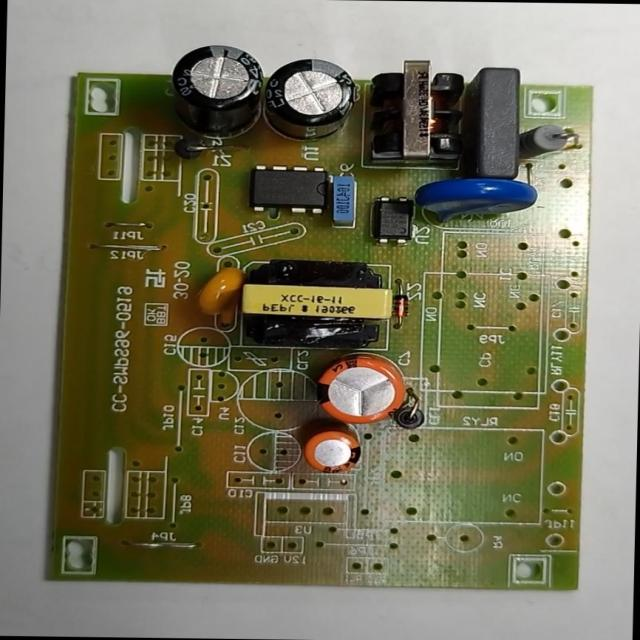Cap1: (296, 349, 426, 429)
Cap2: (290, 424, 375, 482)
Cap3: (260, 53, 366, 148)
Cap4: (163, 36, 275, 150)
MOSFET: (241, 162, 341, 219)
Mov: (404, 174, 546, 229)
Resistor: (517, 116, 583, 166)
Transformer: (225, 255, 402, 354), (362, 55, 477, 172)
